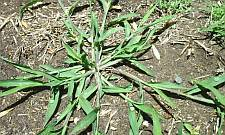crabgrass: (26, 11, 205, 135)
